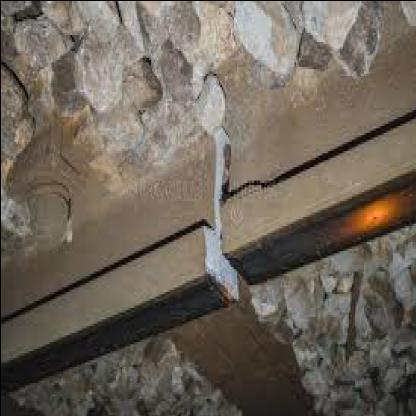Defective: (88, 105, 364, 370)
